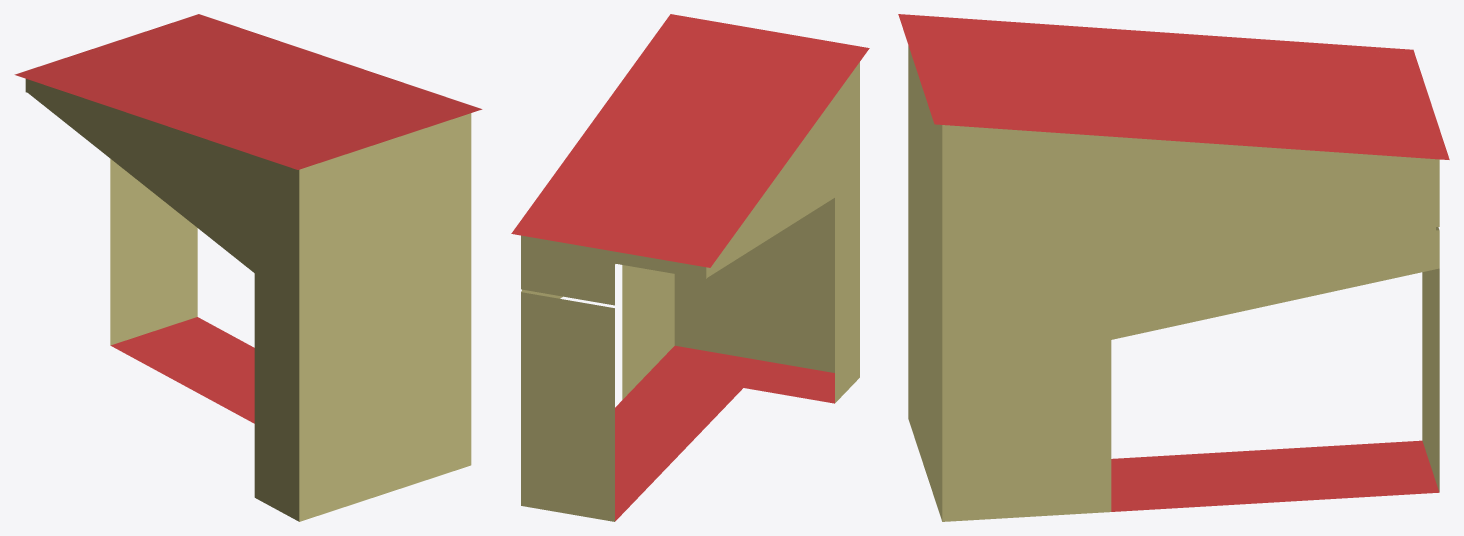
3 views of the same model, side by side, from view 1: azimuth 30°, elevation 25°; view 2: azimuth 150°, elevation 25°; view 3: azimuth 270°, elevation 25° (orthographic). The views are drawn at different scales.
Size of the model in its own units: 9.09 by 15.07 by 12.11.
